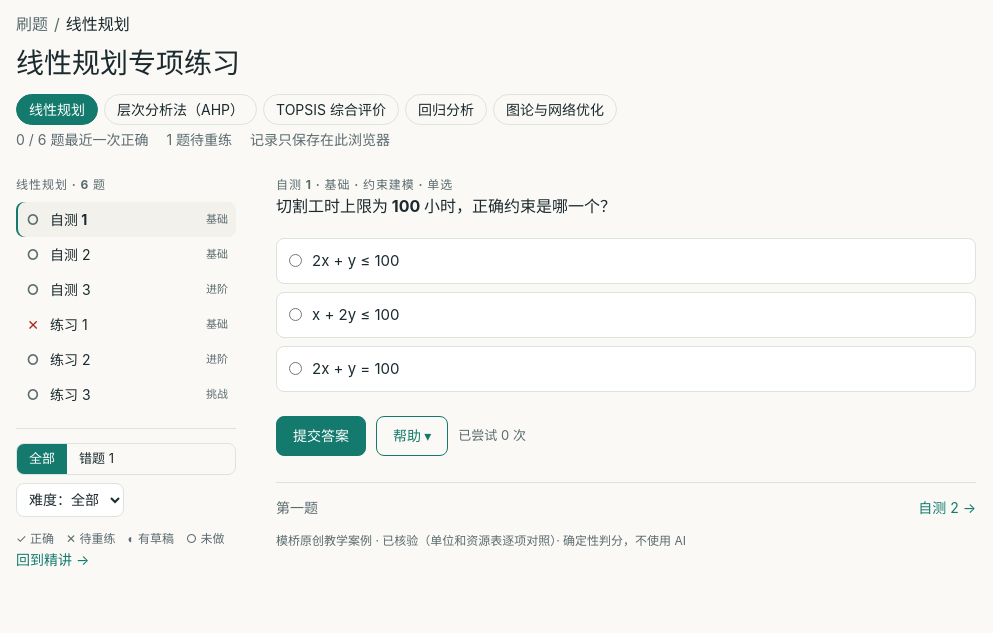
Test: retries previous mistakes from V1 records and updates the count after a corrected attempt
Expected: the text "1 题待重练" is shown, [166, 129, 232, 150]
Click the button "错题 1" at x=96, y=459, box [67, 444, 126, 474]
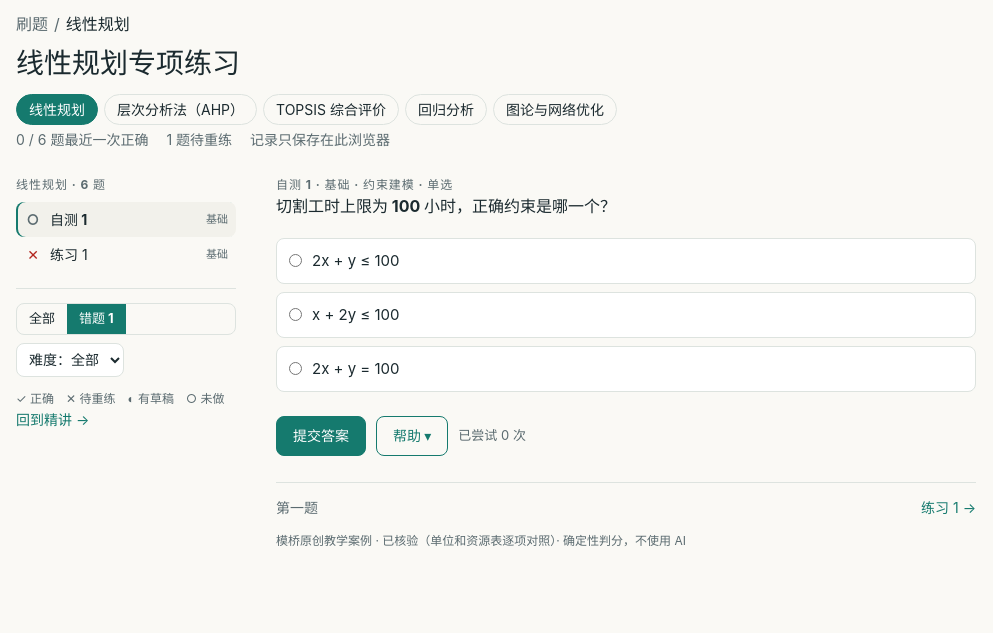
Click the link "✕ 练习 1 基础" at x=69, y=254, box [27, 246, 228, 263]
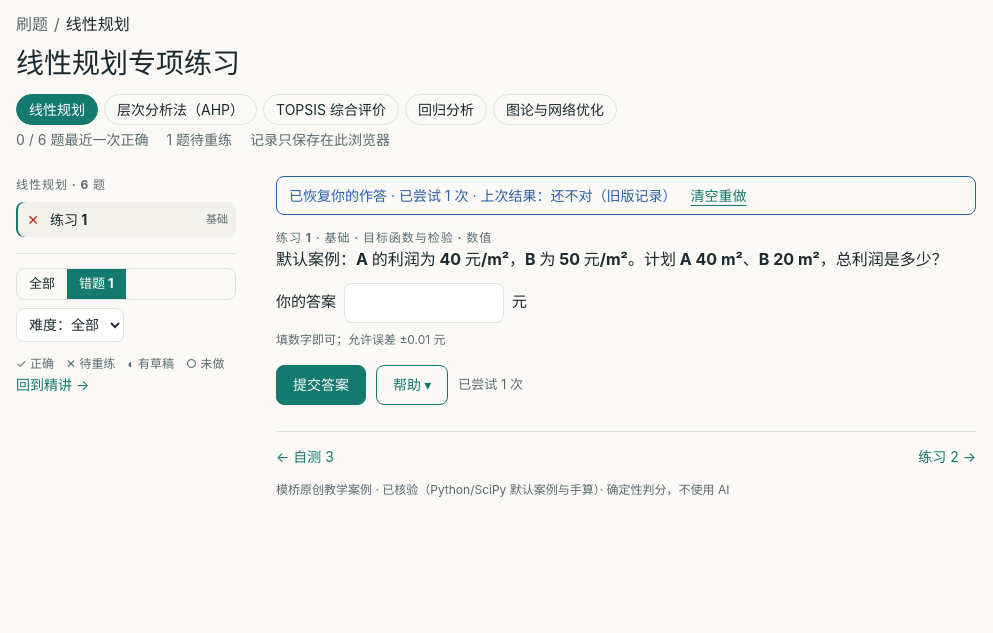
Expected: the message shows "已恢复你的作答 · 已尝试 1 次 · 上次结果：还不对（旧版记录）", [276, 176, 976, 215]
Type "2600" into the field named "你的数值答案" at x=424, y=303, box [344, 283, 504, 323]
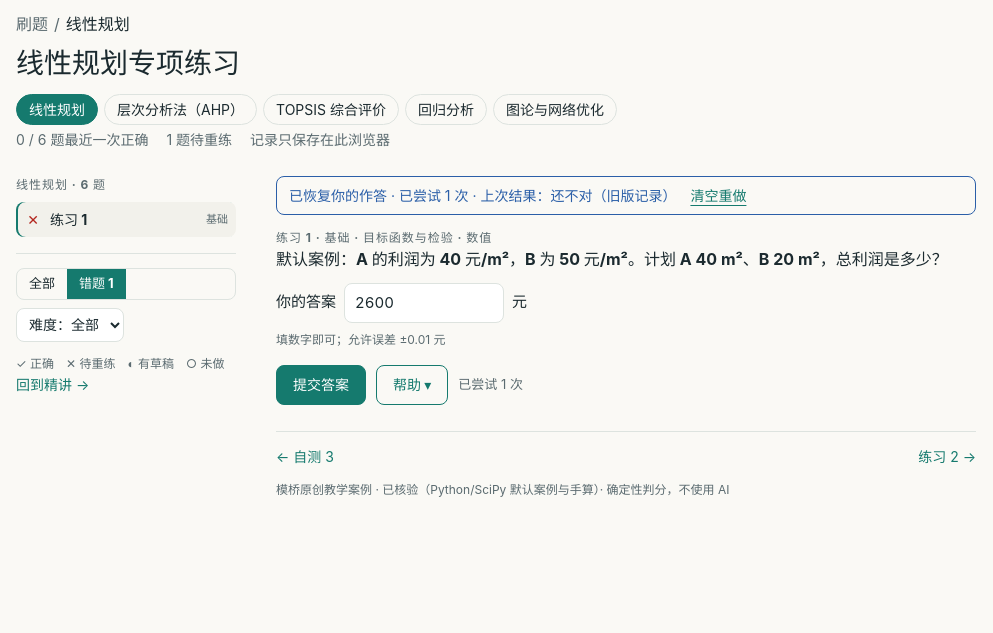
Click the button "提交答案" at x=321, y=385, box [276, 365, 366, 405]
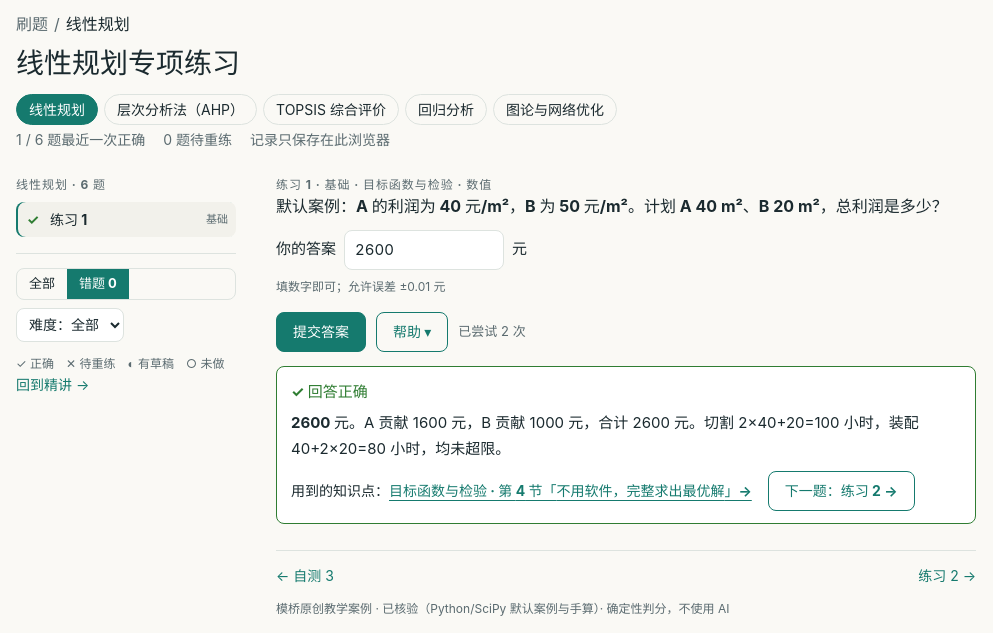
Expected: the text "✓ 回答正确" is shown, [291, 382, 368, 401]
Expected: the text "0 题待重练" is shown, [163, 129, 232, 150]
